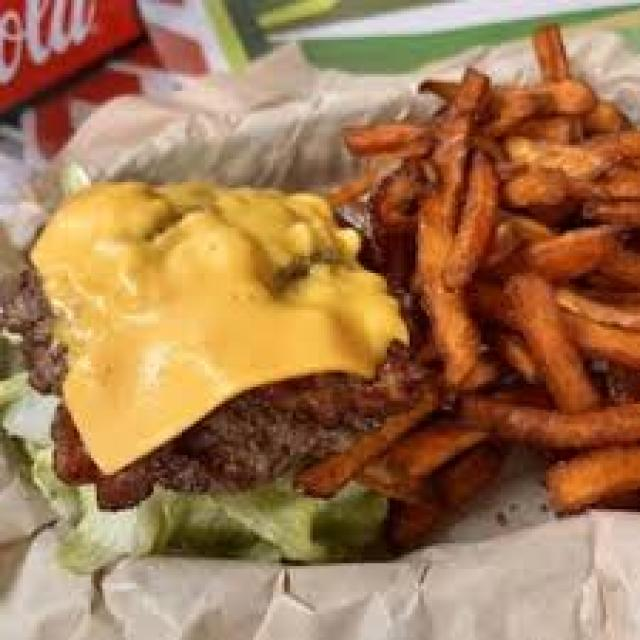Burger: (6, 162, 398, 563)
French Fries: (353, 23, 637, 543)
